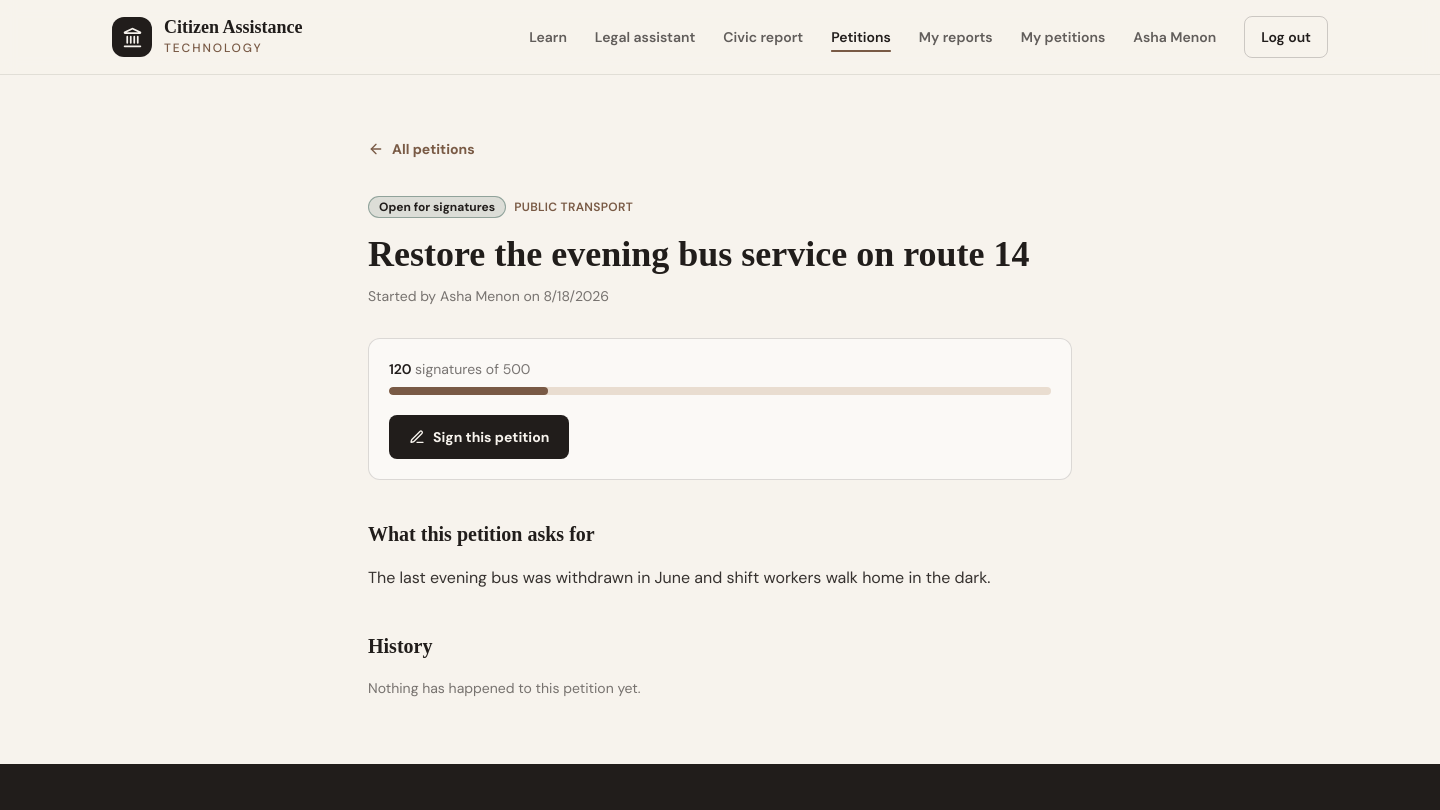
PetitionDetailPage › surfaces a duplicate-signature conflict from the API and resyncs to the real state
Expected: the heading "Restore the evening bus service on route 14" is shown, [368,234,1072,274]
Click the button "Sign this petition". click: {"x": 479, "y": 437}
box: [389,415,569,459]
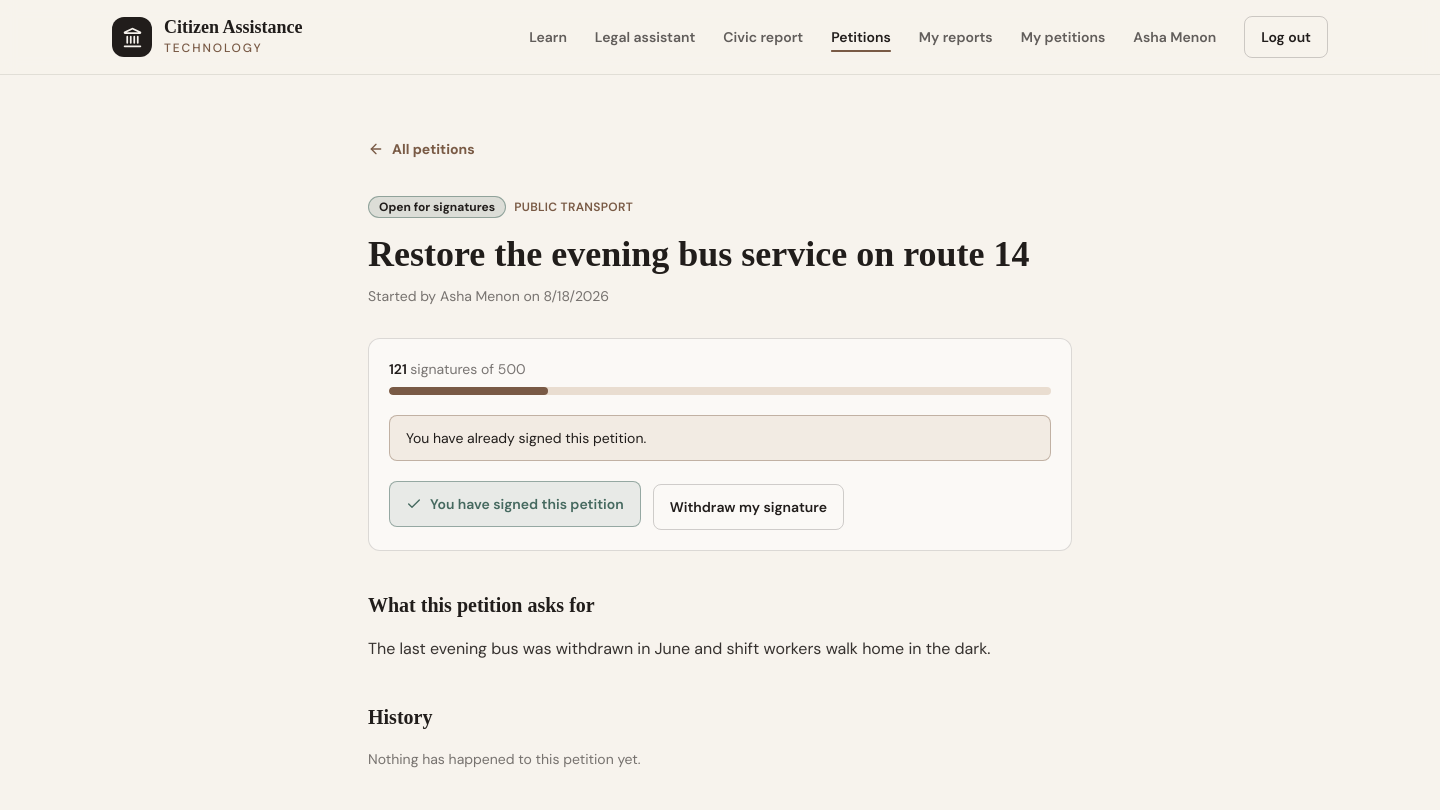
Expected: the message reads "You have already signed this petition.", [406,429,646,447]
Expected: the text "You have signed this petition" is shown, [389,481,641,527]
Expected: the button "Sign this petition" is gone
